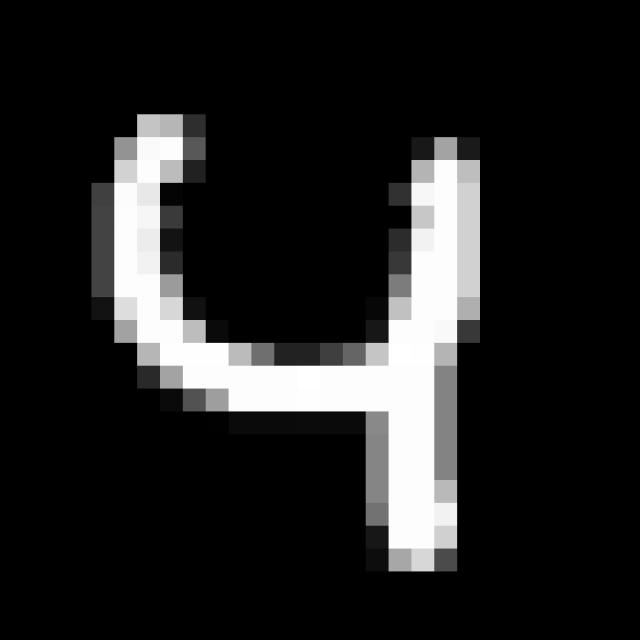four -4-: (84, 101, 503, 598)
